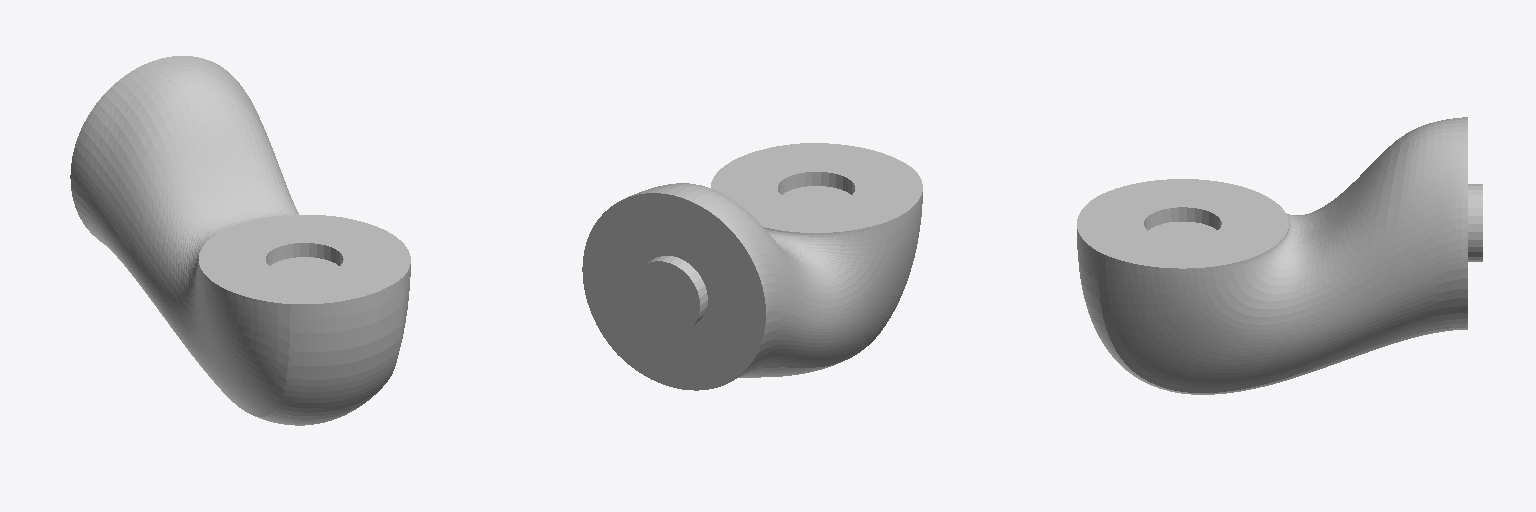
3 views of the same model, side by side, from view 1: azimuth 30°, elevation 25°; view 2: azimuth 150°, elevation 25°; view 3: azimuth 270°, elevation 25° (orthographic).
Parts seen in each view (by area): view 1: link_1; view 2: link_1; view 3: link_1.
Boxes of the visible parts, box(x1,y1,x2,y2) form: link_1: box(70, 56, 410, 425); link_1: box(582, 143, 922, 390); link_1: box(1077, 117, 1482, 394).
Size of the model in its own units: 0.136 by 0.1826 by 0.2605.